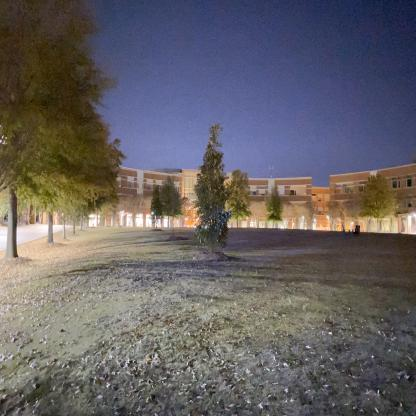eb2: (57, 150, 322, 235)
